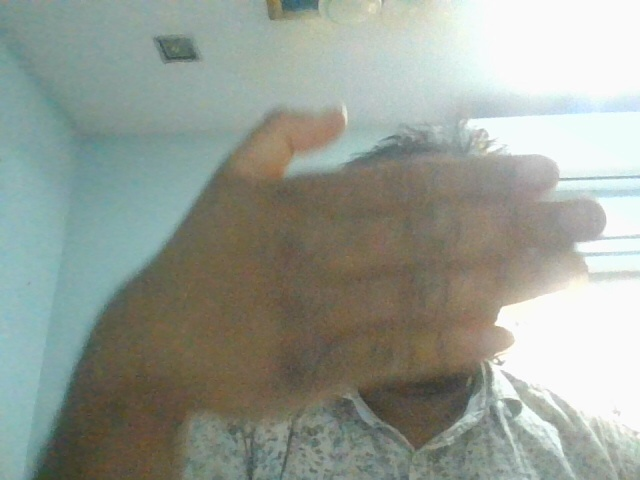LEFT: (129, 88, 616, 403)
